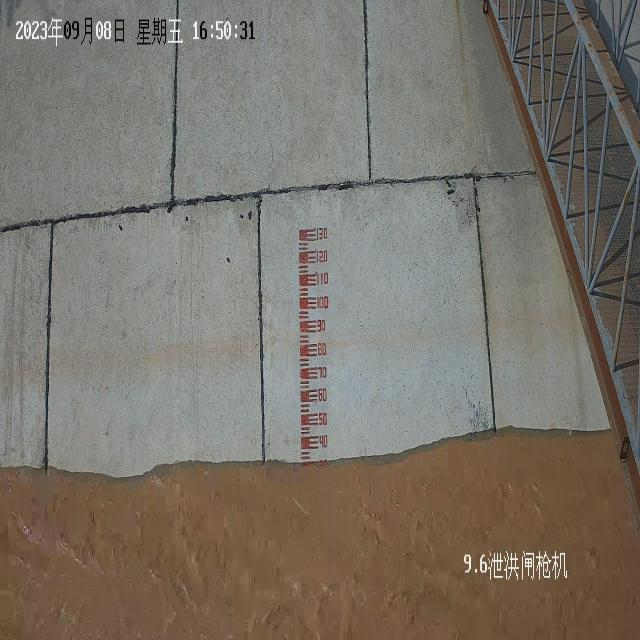ruler: (296, 221, 332, 458)
value: (315, 293, 330, 312), (315, 224, 329, 244), (314, 246, 328, 266), (316, 268, 330, 287), (316, 339, 328, 359), (316, 316, 328, 335), (316, 385, 328, 404), (318, 409, 329, 428), (317, 363, 328, 381), (318, 432, 329, 450)
